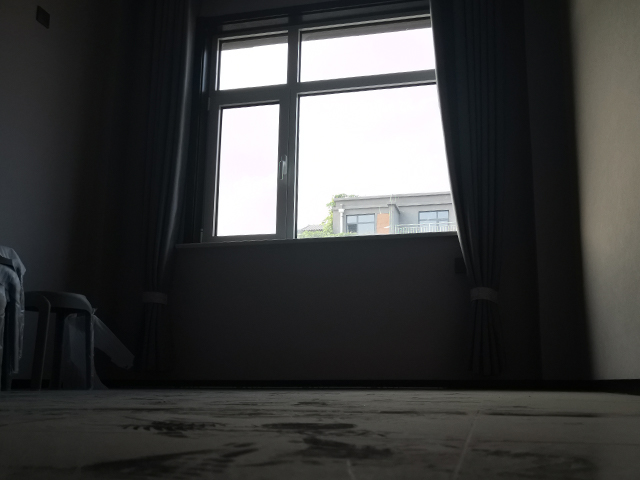curtain: (428, 1, 510, 376), (133, 1, 203, 375)
stool: (1, 245, 97, 393)
